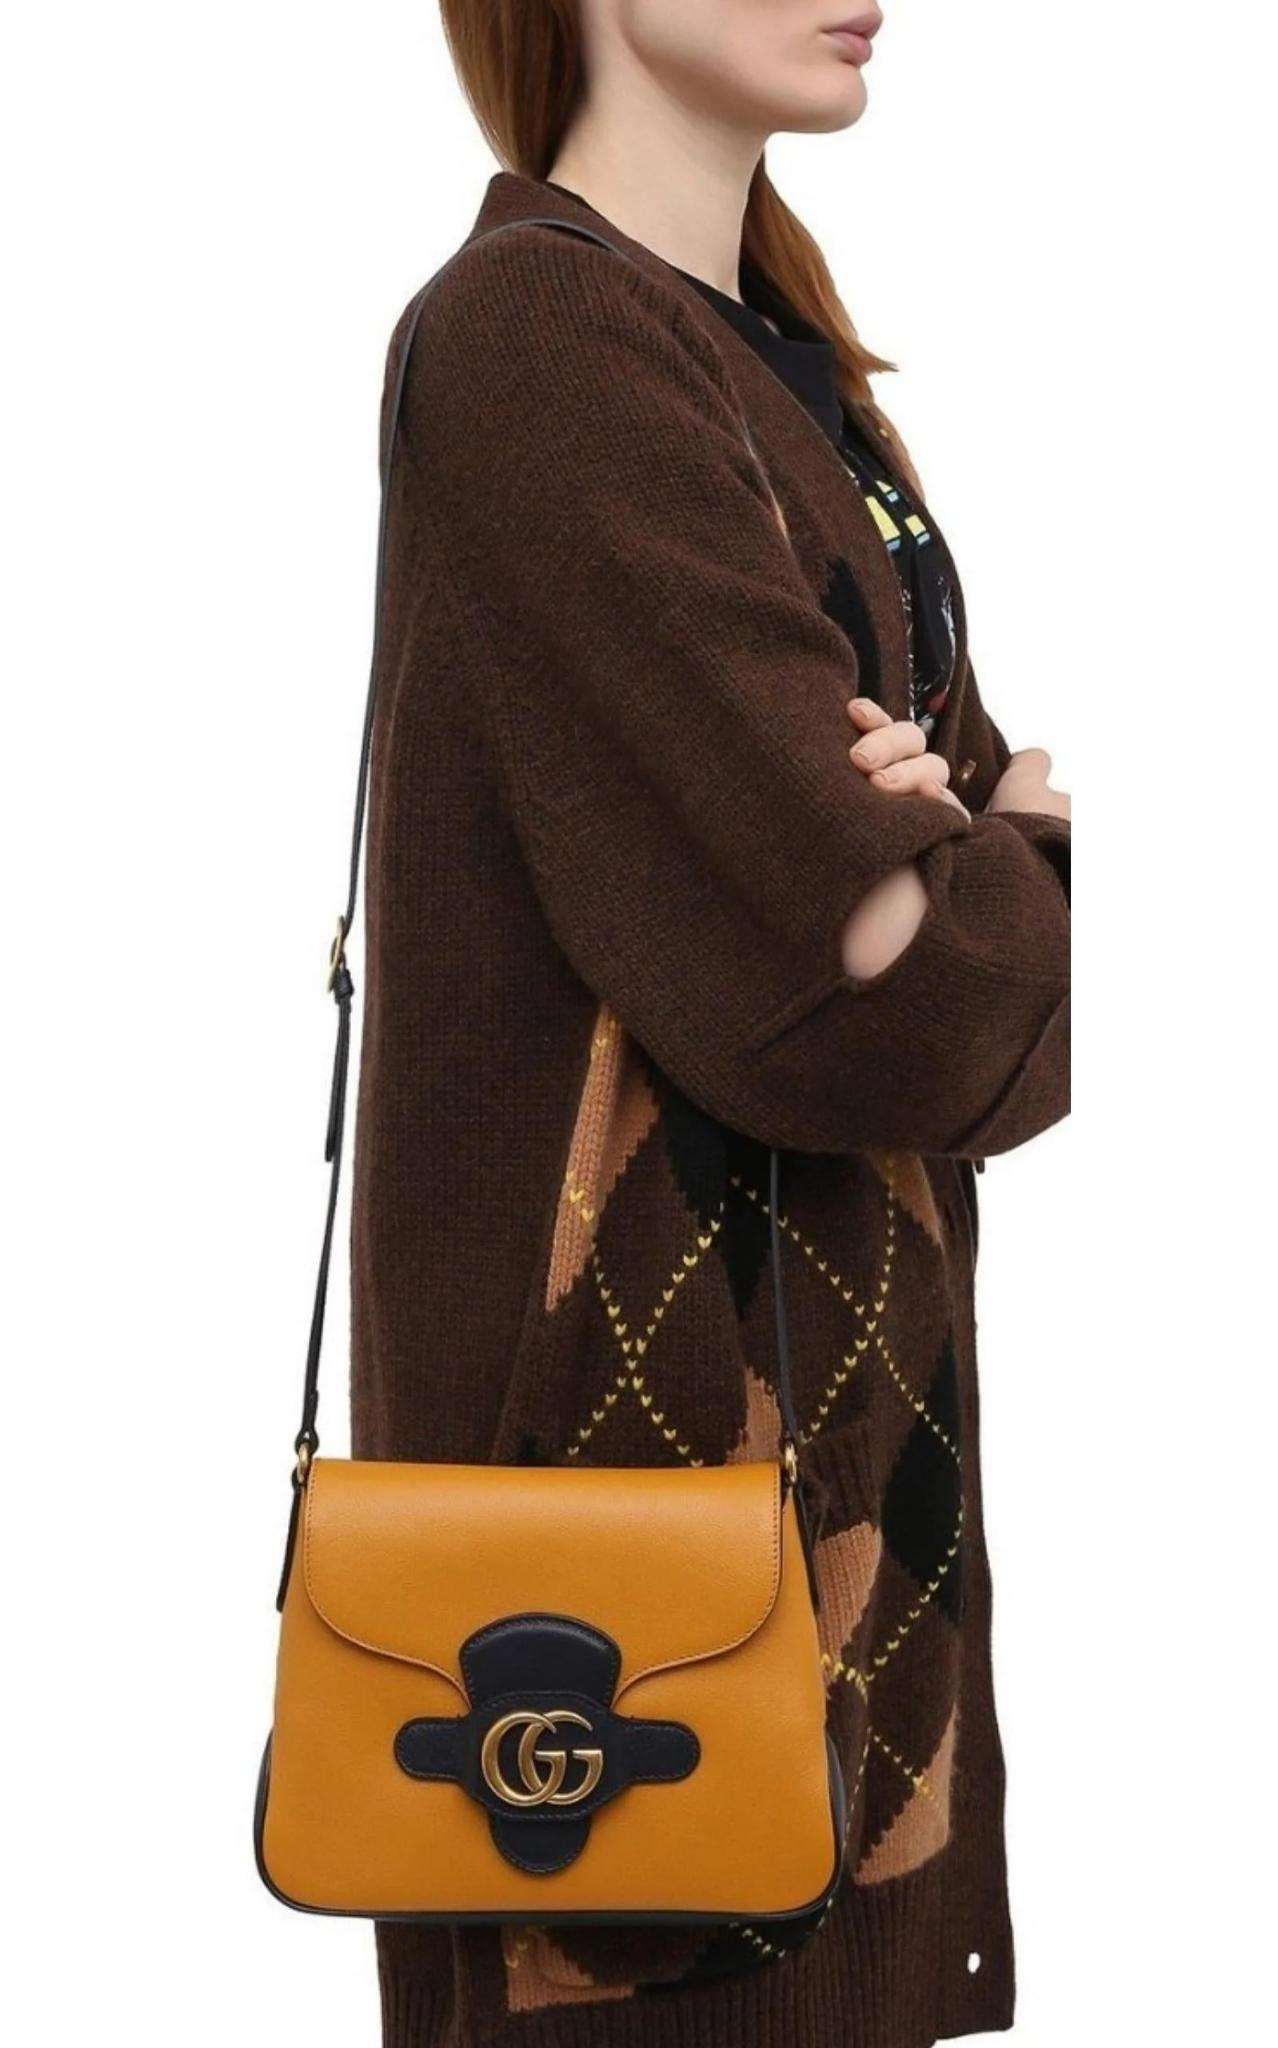GUCCI: (481, 1708, 605, 1805)
